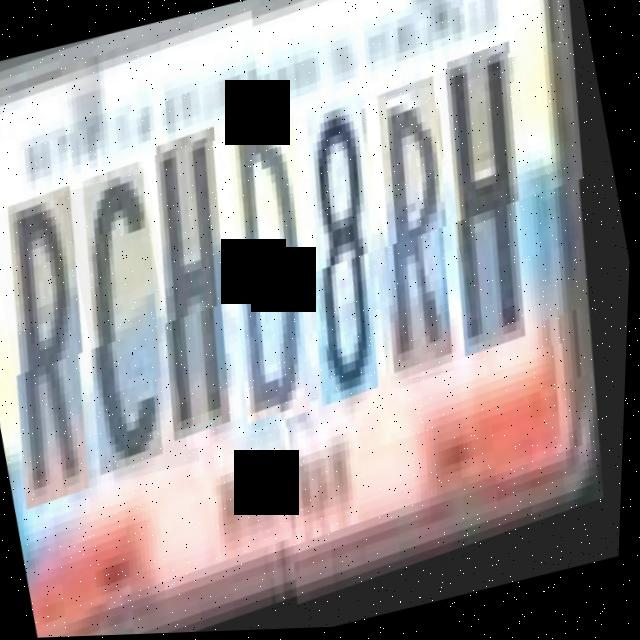8: (280, 101, 427, 414)
C: (56, 170, 211, 484)
D: (206, 123, 361, 437)
H: (421, 54, 576, 368), (130, 139, 281, 453)
R: (0, 193, 139, 517), (354, 85, 499, 383)
